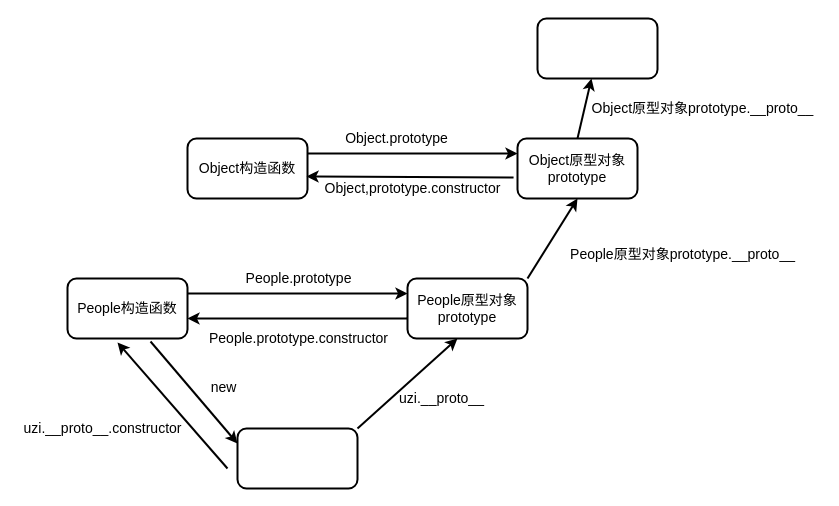
The diagram is 839 pixels wide and 506 high, and some of its shapes have lost their labels. The shapes that lost their labels are listed below. From the top down, each one's box as (x1, y1, x2, y2) in pixels, then its label:
(536, 17, 658, 79): null
(236, 427, 358, 489): 对象实例uzi
